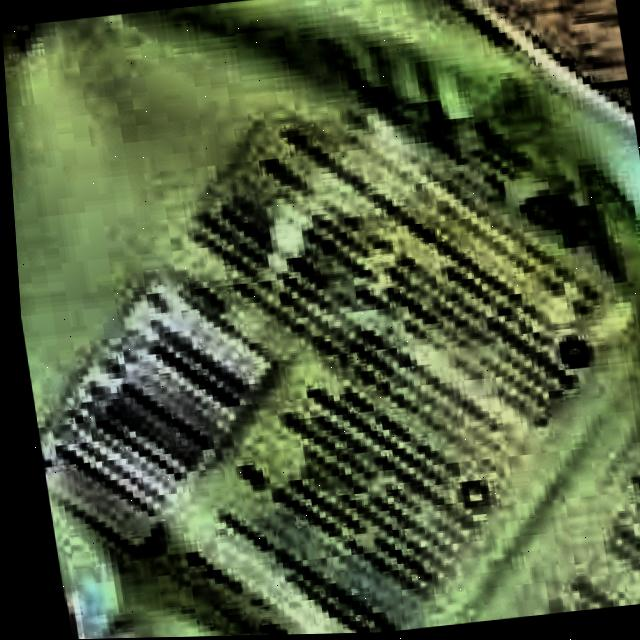metal: (2, 0, 640, 639)
